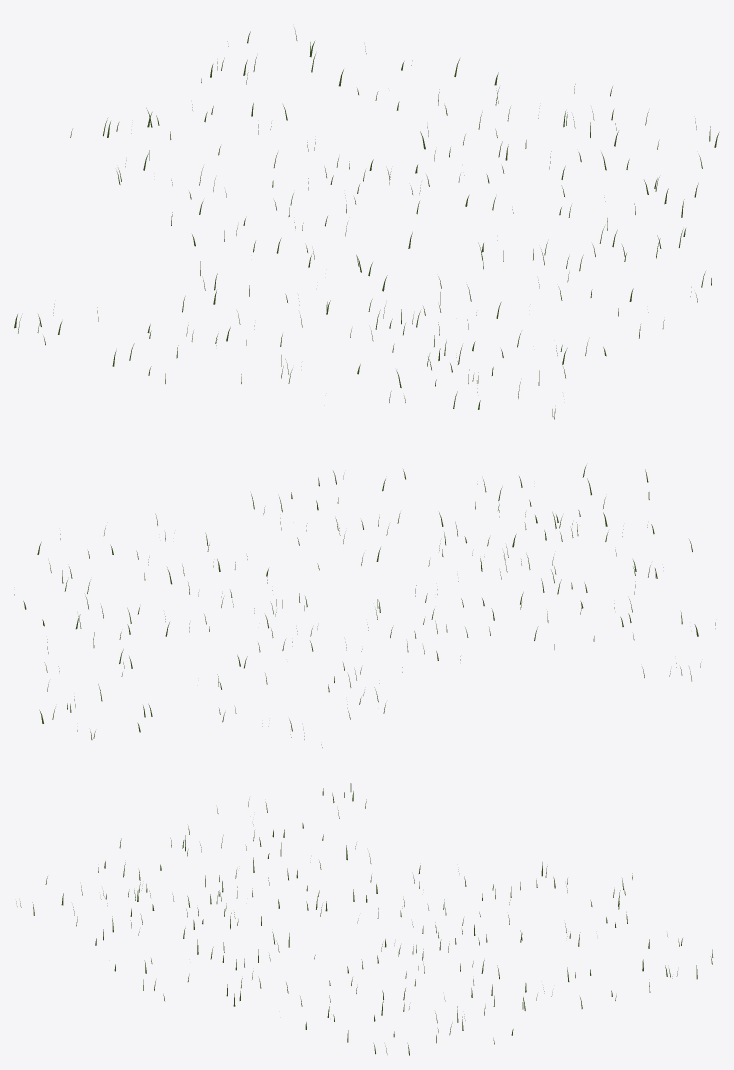
3 views of the same model, one above another, from view 1: azimuth 30°, elevation 25°; view 2: azimuth 150°, elevation 25°; view 3: azimuth 270°, elevation 25° (orthographic). The views are drawn at different scales.
Visible parts, largest first — view 1: GrassPatch; view 2: GrassPatch; view 3: GrassPatch.
Part boxes in pixels (<box>): GrassPatch: <box>14,28,719,419</box>; GrassPatch: <box>14,465,715,747</box>; GrassPatch: <box>16,783,713,1055</box>.
Bounding box in the file's own units: 17.29 × 0.4919 × 19.59.
